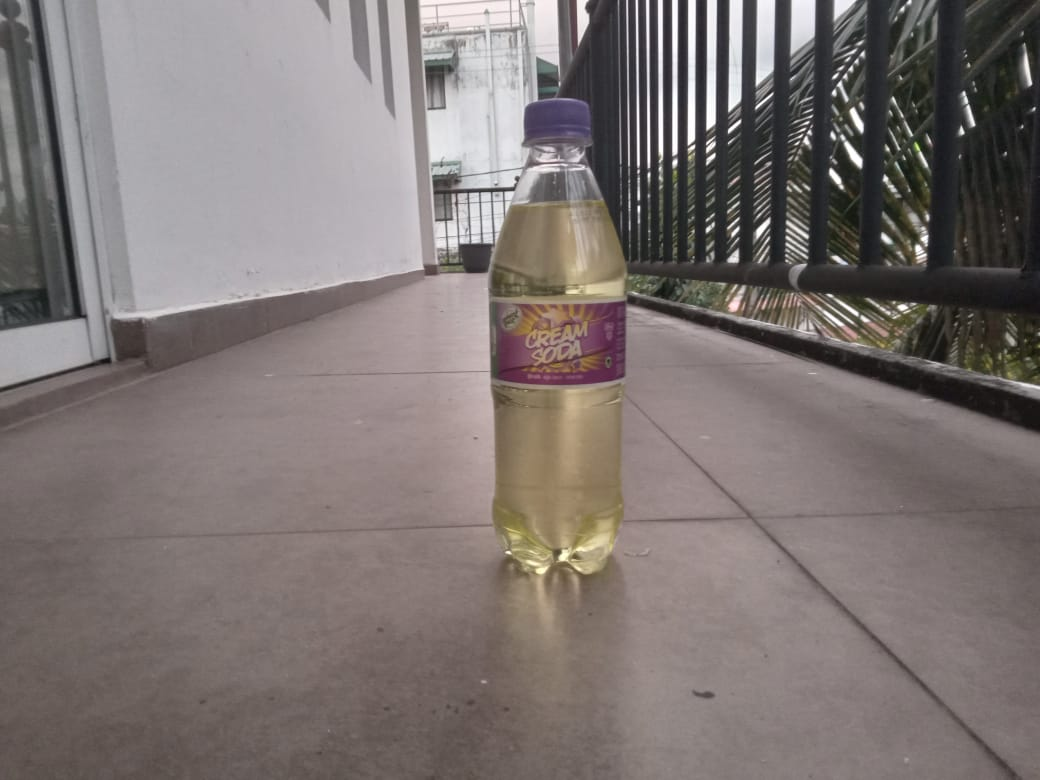S: (475, 93, 638, 591)
